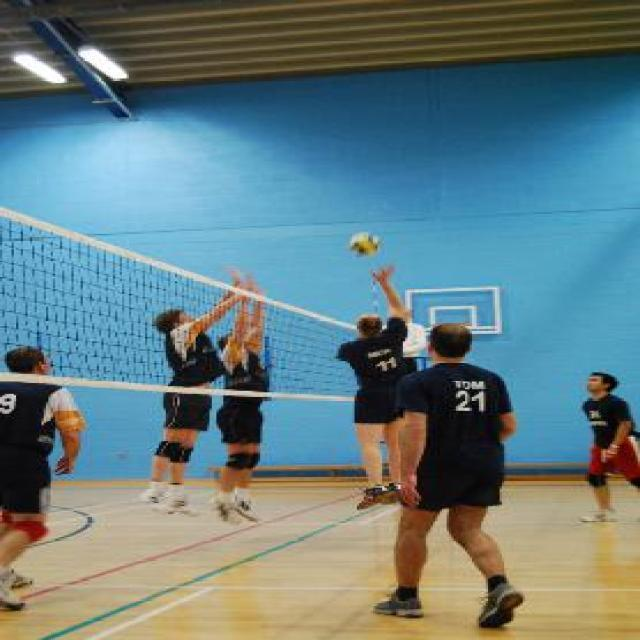volleyball: (348, 232, 381, 256)
